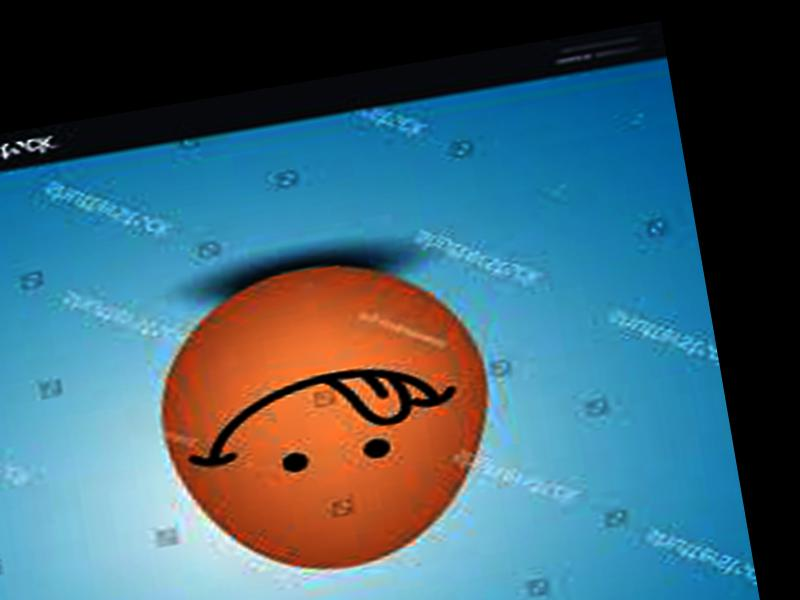Eggs: (139, 240, 514, 594)
